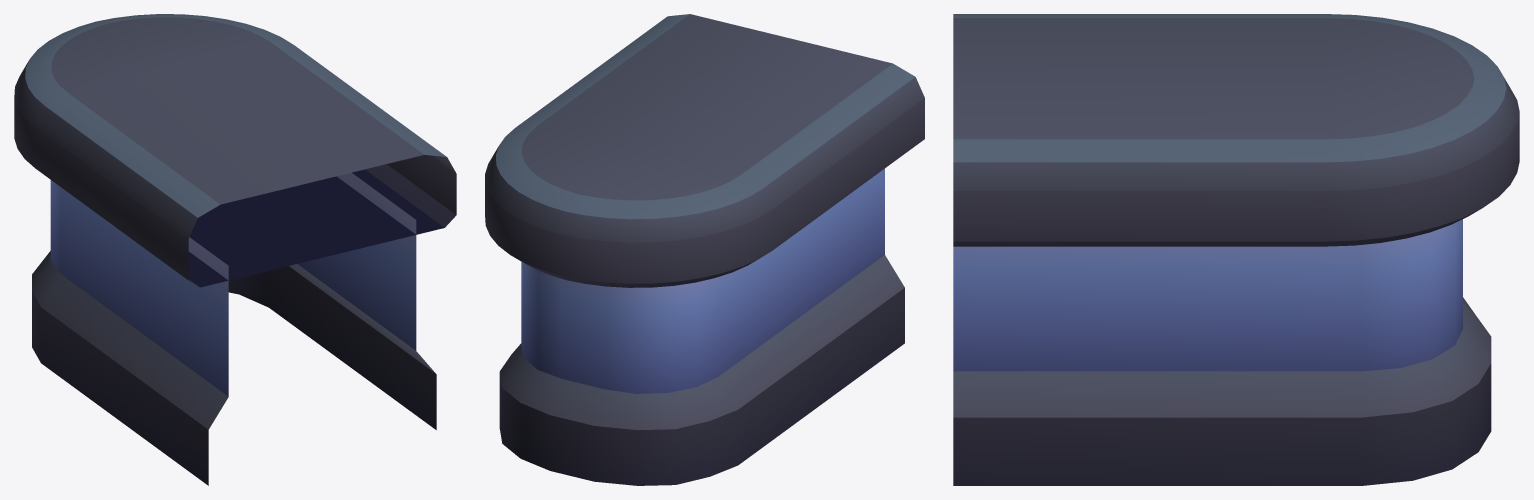
The model's file is bar_end.fbx.
3 views of the same model, side by side, from view 1: azimuth 30°, elevation 25°; view 2: azimuth 150°, elevation 25°; view 3: azimuth 270°, elevation 25° (orthographic). The views are drawn at different scales.
Parts seen in each view (by area): view 1: bar_end; view 2: bar_end; view 3: bar_end.
Boxes of the visible parts, left/top/right/bottom form: bar_end: left=14, top=14, right=456, bottom=485; bar_end: left=485, top=14, right=924, bottom=485; bar_end: left=953, top=14, right=1519, bottom=485.
Size of the model in its own units: 73.48 by 72.93 by 110.
